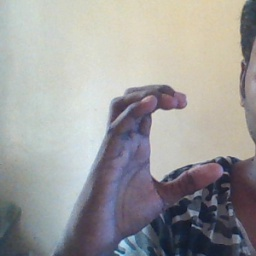C: (96, 77, 225, 200)
